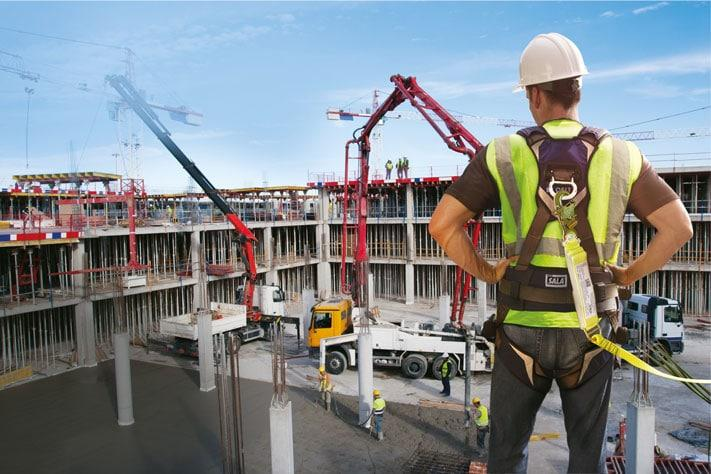helmet: (516, 32, 590, 91), (372, 389, 384, 401), (319, 366, 327, 376), (473, 400, 482, 407), (442, 353, 451, 360)
